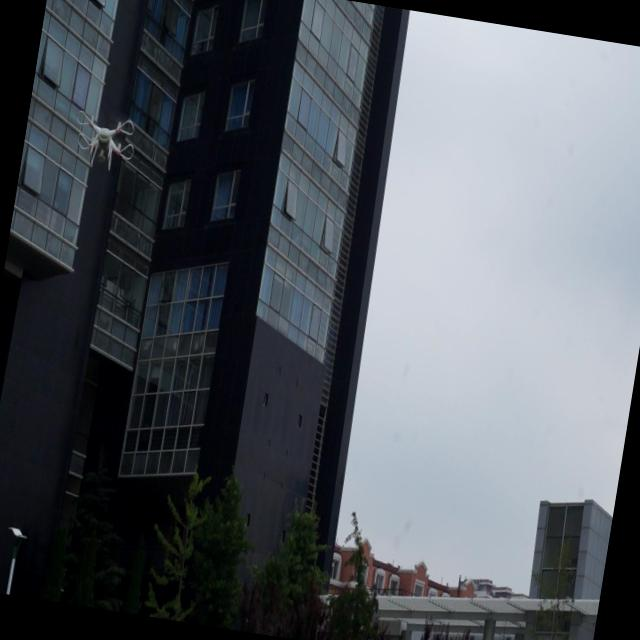drone: (68, 106, 142, 176)
